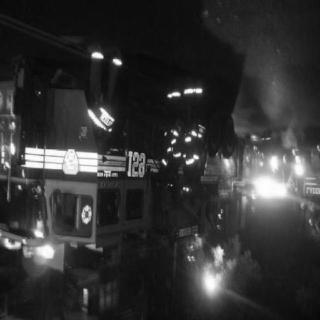other: (198, 261, 225, 297)
